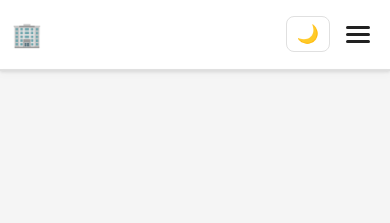
Navbar Component › Accessibility › mobile menu toggle has proper aria attributes
Click the button named "Toggle navigation menu": (358, 34) [338, 18, 378, 50]
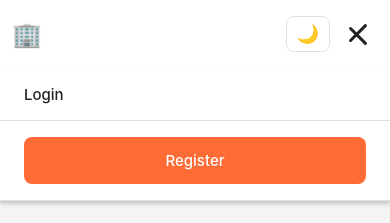
Check: the button named "Toggle navigation menu" is expanded, box [338, 18, 378, 50]
